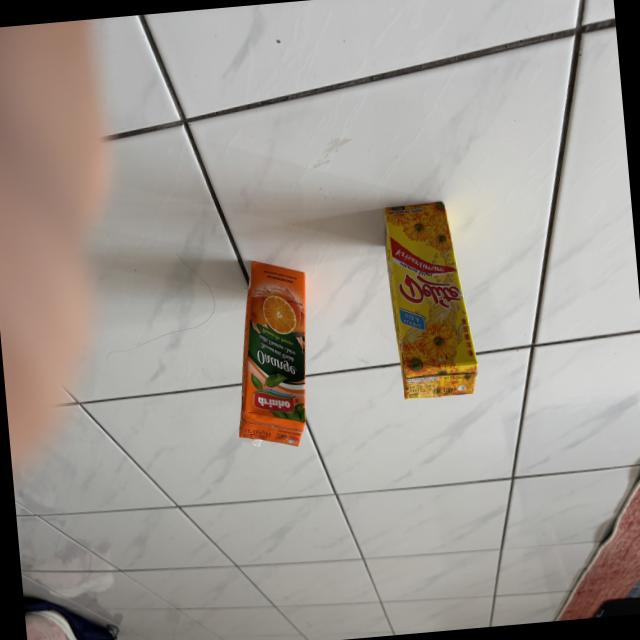drink_carton: (376, 182, 484, 413), (218, 245, 329, 461)
